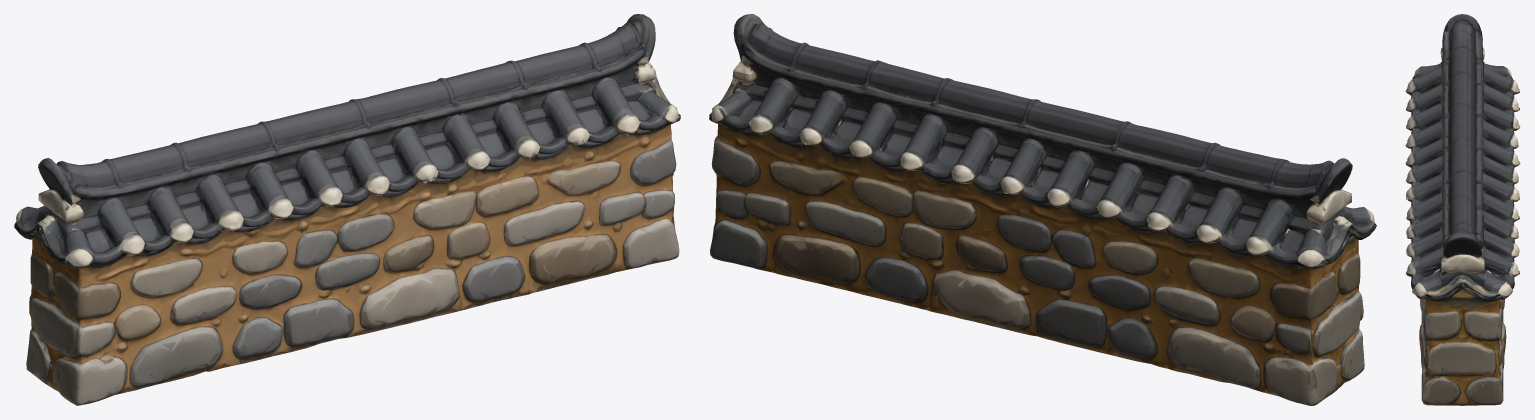
Rendered from wall_stone_high.glb.
The picture shows the model from 3 angles, left to right: view 1: azimuth 30°, elevation 25°; view 2: azimuth 150°, elevation 25°; view 3: azimuth 270°, elevation 25°; orthographic projection. The views are drawn at different scales.
Visible parts, largest first — view 1: texture_mapping; view 2: texture_mapping; view 3: texture_mapping.
Part boxes in pixels (<box>): texture_mapping: <box>14,14,680,405</box>; texture_mapping: <box>709,14,1376,405</box>; texture_mapping: <box>1405,14,1520,405</box>.
Size of the model in its own units: 1 by 0.3553 by 0.2155.
1 material, 1 textured.
